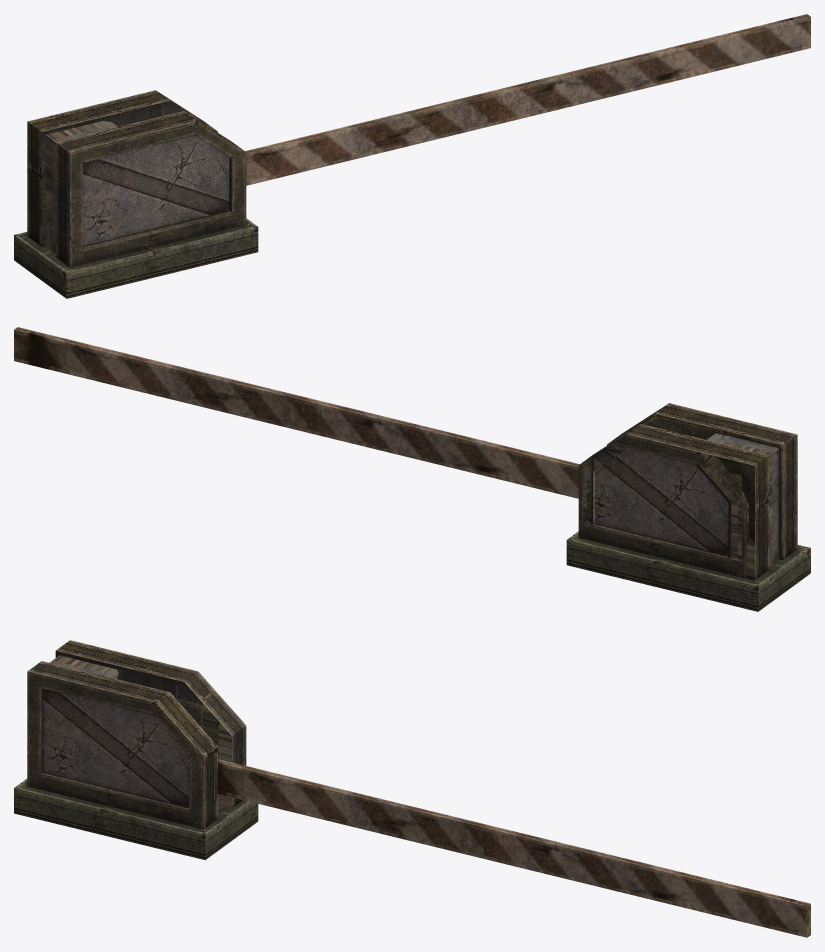
3 views of the same model, one above another, from view 1: azimuth 30°, elevation 25°; view 2: azimuth 150°, elevation 25°; view 3: azimuth 330°, elevation 25° (orthographic).
Parts seen in each view (by area): view 1: gate1_gate1Shape; view 2: gate1_gate1Shape; view 3: gate1_gate1Shape.
Part boxes in pixels (x1,y1,x2,y2): gate1_gate1Shape: [14, 14, 810, 298]; gate1_gate1Shape: [14, 327, 810, 611]; gate1_gate1Shape: [14, 640, 810, 937].
Bounding box in the file's own units: 7.91 × 1.38 × 0.9395.
1 material, 1 textured.
